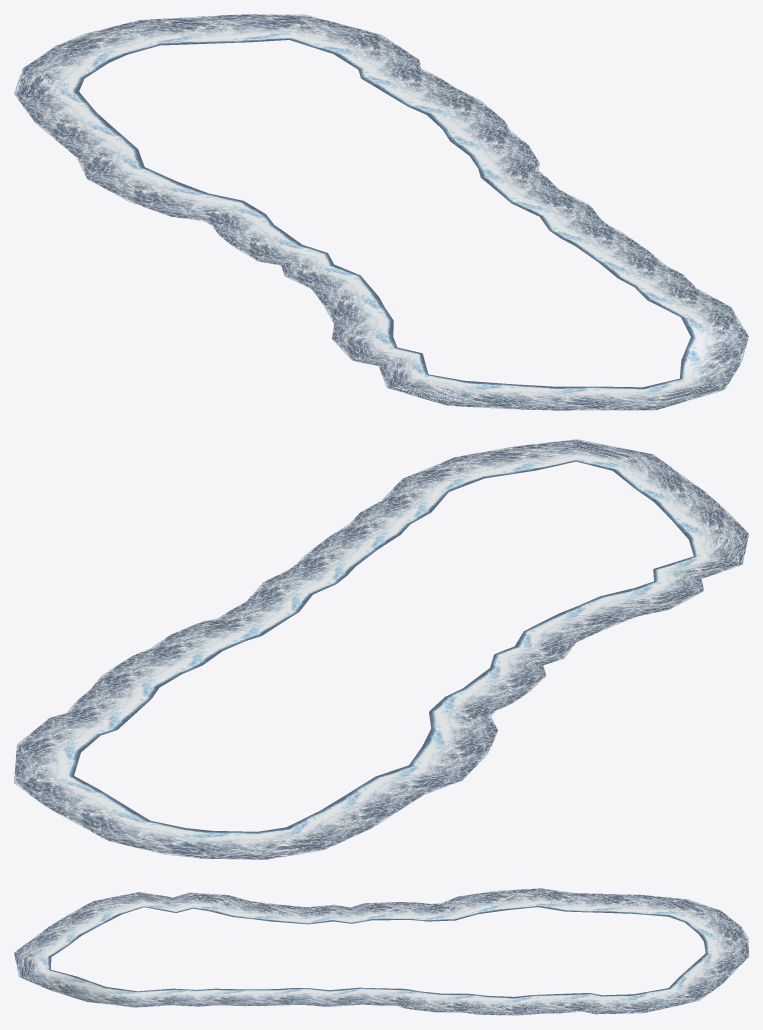
File: island_06_coast.fbx
3 renders of one model, top to bottom at view 1: azimuth 30°, elevation 25°; view 2: azimuth 150°, elevation 25°; view 3: azimuth 270°, elevation 25°, orthographic. The views are drawn at different scales.
Visible parts, largest first — view 1: island_06_coast1; view 2: island_06_coast1; view 3: island_06_coast1.
Part boxes in pixels (x1,y1,x2,y2): island_06_coast1: (14,14,748,410); island_06_coast1: (14,439,748,859); island_06_coast1: (14,888,748,1015).
Bounding box in the file's own units: 0.2201 × 0 × 0.5369.
1 material, 1 textured.
